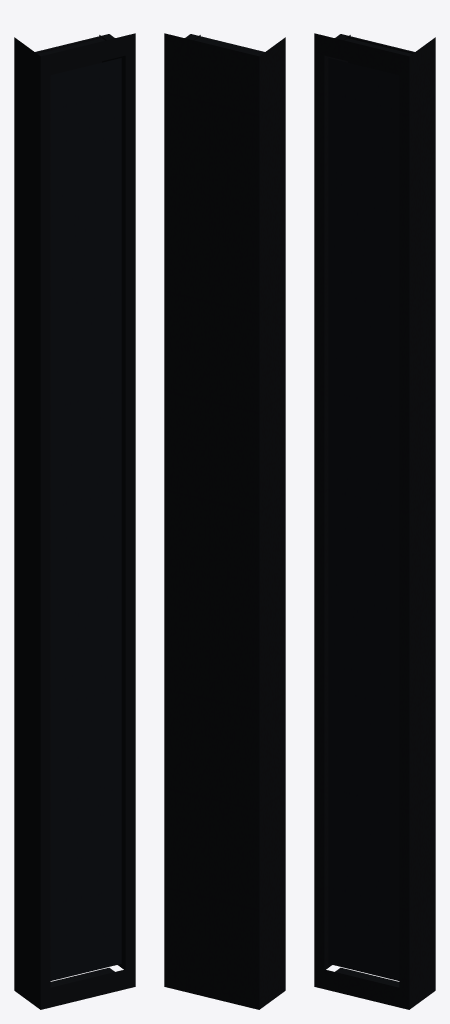
Rendered from tt_climb_train_trim.glb.
3 renders of one model, left to right at view 1: azimuth 30°, elevation 25°; view 2: azimuth 150°, elevation 25°; view 3: azimuth 330°, elevation 25°, orthographic.
Visible parts, largest first — view 1: Spray_Face, Frame; view 2: Frame; view 3: Spray_Face, Frame.
Boxes of the visible parts, left/top/right/bottom form: Spray_Face: left=50, top=58, right=121, bottom=980; Frame: left=14, top=33, right=135, bottom=1009; Frame: left=164, top=33, right=285, bottom=1009; Spray_Face: left=328, top=58, right=399, bottom=980; Frame: left=314, top=33, right=435, bottom=1009.
Size of what is drawn, in the model's own units: 0.25 by 2.4 by 0.12.
Materials: 2 (2 with a texture image).
